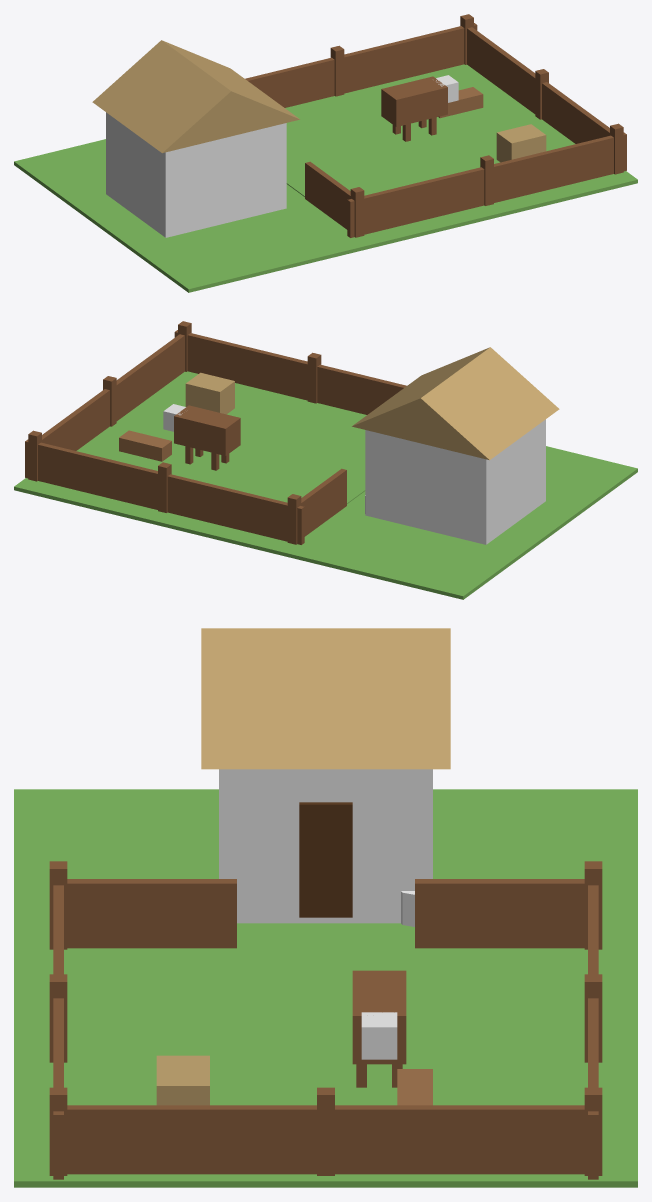
The model's file is dairy_farm.glb.
The picture shows the model from 3 angles, top to bottom: view 1: azimuth 30°, elevation 25°; view 2: azimuth 150°, elevation 25°; view 3: azimuth 270°, elevation 25°; orthographic projection. The views are drawn at different scales.
Parts seen in each view (by area): view 1: Ground, Pasture, House_Walls, House_Roof, Fence_F, Fence_B, Fence_R, CowBody, Fence_L, HayBale, Trough, FP_10_15 (+4 smaller); view 2: Ground, Pasture, House_Walls, House_Roof, Fence_B, Fence_F, Fence_R, CowBody, Fence_L2, HayBale, Trough, FP_10_-15 (+4 smaller); view 3: Pasture, Ground, House_Roof, Fence_R, House_Walls, Fence_L, Fence_L2, Door, CowBody, HayBale, Fence_F, Fence_B (+9 smaller).
Part boxes in pixels (x1,y1,x2,y2): Ground: [14, 139, 637, 292]; Pasture: [285, 64, 575, 196]; House_Walls: [106, 112, 286, 237]; House_Roof: [92, 40, 299, 153]; Fence_F: [347, 132, 626, 237]; Fence_B: [245, 23, 477, 107]; Fence_R: [467, 27, 609, 143]; CowBody: [381, 76, 447, 126]; Fence_L: [305, 161, 350, 229]; HayBale: [496, 124, 546, 162]; Trough: [438, 87, 483, 118]; FP_10_15: [330, 45, 344, 96]; Ground: [14, 446, 637, 599]; Pasture: [76, 371, 366, 503]; House_Walls: [365, 419, 545, 544]; House_Roof: [352, 347, 559, 460]; Fence_B: [25, 439, 304, 544]; Fence_F: [174, 330, 406, 414]; Fence_R: [42, 334, 184, 450]; CowBody: [174, 405, 240, 455]; Fence_L2: [301, 468, 346, 536]; HayBale: [185, 372, 234, 414]; Trough: [119, 430, 171, 461]; FP_10_-15: [307, 352, 321, 403]; Pasture: [64, 946, 587, 1105]; Ground: [14, 789, 637, 1187]; House_Roof: [201, 628, 450, 769]; Fence_R: [67, 1105, 584, 1174]; House_Walls: [219, 769, 432, 923]; Fence_L: [67, 879, 236, 948]; Fence_L2: [415, 879, 584, 948]; Door: [299, 802, 352, 917]; CowBody: [352, 970, 406, 1064]; HayBale: [156, 1055, 209, 1105]; Fence_F: [53, 885, 63, 1179]; Fence_B: [588, 885, 598, 1179].
Size of the model in its own units: 5.2 by 1.55 by 3.5.
